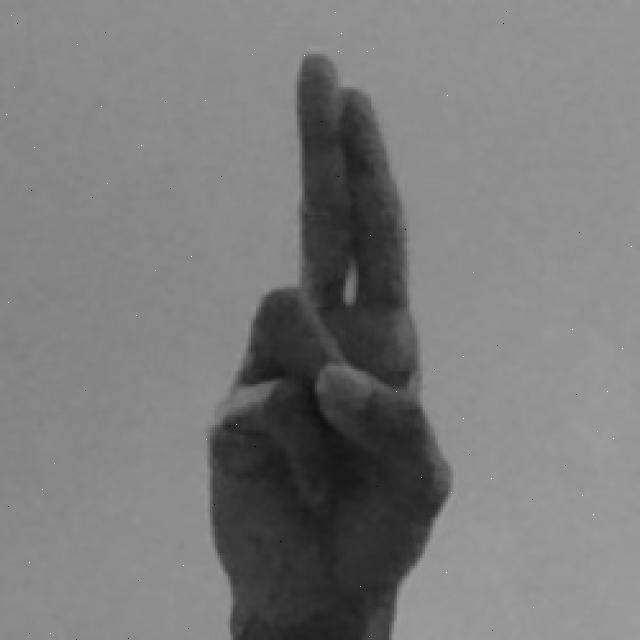U: (199, 43, 455, 640)
